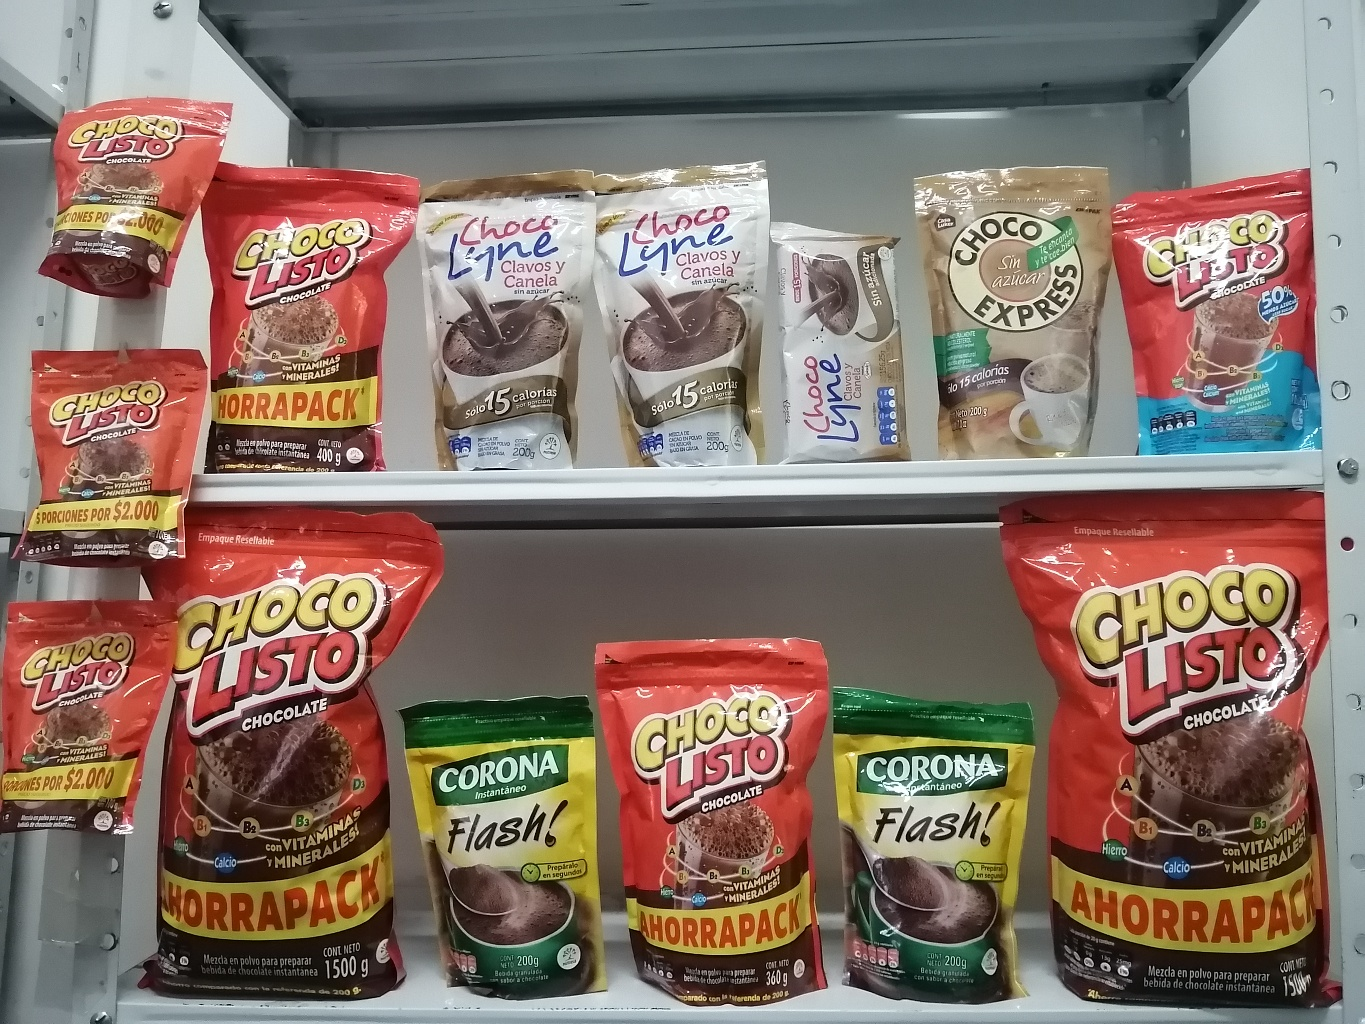COL0170103DYP1,500: (1007, 481, 1336, 1011)
COL0170103DYP10000: (47, 76, 228, 304)
COL0170103DYP36000: (603, 624, 838, 1008)
COL0170103DYP40000: (219, 158, 426, 465)
COL0170104DYP20000: (1108, 154, 1326, 458)
